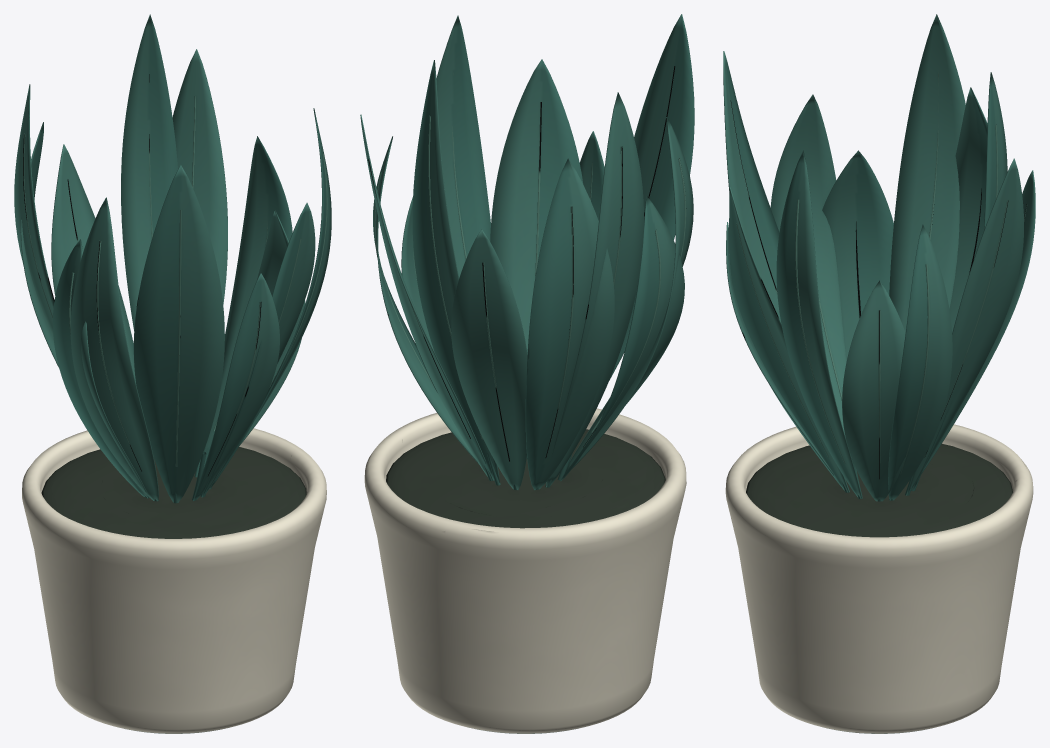
File: plant.glb
3 renders of one model, left to right at view 1: azimuth 30°, elevation 25°; view 2: azimuth 150°, elevation 25°; view 3: azimuth 270°, elevation 25°, orthographic. The views are drawn at different scales.
Parts seen in each view (by area): view 1: ceramic planter, cupped leaf 07, soft soil bed, cupped leaf 12, cupped leaf 11, cupped leaf 02, cupped leaf 03, cupped leaf 08, cupped leaf 04, cupped leaf 10, cupped leaf 06, cupped leaf 09 (+4 smaller); view 2: ceramic planter, cupped leaf 01, soft soil bed, cupped leaf 06, cupped leaf 10, cupped leaf 09, cupped leaf 11, cupped leaf 05, cupped leaf 07, cupped leaf 04, cupped leaf 03, cupped leaf 12 (+4 smaller); view 3: ceramic planter, soft soil bed, cupped leaf 09, cupped leaf 05, cupped leaf 08, cupped leaf 03, cupped leaf 00, cupped leaf 04, cupped leaf 12, cupped leaf 10, cupped leaf 07, cupped leaf 01 (+4 smaller).
Boxes of the visible parts, x1,y1,x2,y2 form: ceramic planter: (22, 428, 326, 733); cupped leaf 07: (133, 165, 224, 502); soft soil bed: (41, 447, 306, 538); cupped leaf 12: (70, 197, 158, 501); cupped leaf 11: (121, 14, 177, 330); cupped leaf 02: (193, 273, 279, 500); cupped leaf 03: (172, 49, 227, 303); cupped leaf 08: (204, 136, 292, 466); cupped leaf 04: (53, 239, 148, 498); cupped leaf 10: (201, 203, 315, 497); cupped leaf 06: (51, 144, 136, 384); cupped leaf 09: (14, 84, 54, 335); ceramic planter: (364, 408, 686, 733); cupped leaf 01: (525, 158, 614, 490); soft soil bed: (386, 429, 665, 528); cupped leaf 06: (451, 229, 527, 489); cupped leaf 10: (490, 59, 583, 458); cupped leaf 09: (546, 92, 643, 487); cupped leaf 11: (412, 60, 499, 482); cupped leaf 05: (436, 15, 490, 277); cupped leaf 07: (609, 14, 694, 380); cupped leaf 04: (560, 196, 684, 481); cupped leaf 03: (360, 114, 492, 480); cupped leaf 12: (565, 117, 693, 472); ceramic planter: (725, 424, 1033, 733); soft soil bed: (746, 444, 1012, 537); cupped leaf 09: (889, 14, 965, 332); cupped leaf 05: (776, 150, 861, 498); cupped leaf 08: (888, 224, 952, 500); cupped leaf 03: (906, 158, 1023, 495); cupped leaf 00: (842, 280, 905, 501); cupped leaf 04: (822, 150, 893, 360); cupped leaf 12: (770, 94, 846, 435); cupped leaf 10: (729, 187, 848, 492); cupped leaf 07: (723, 51, 780, 321); cupped leaf 01: (949, 87, 987, 333).
Bounding box in the file's own units: 1.2 × 2.72 × 1.22.
7 materials, 7 textured.
